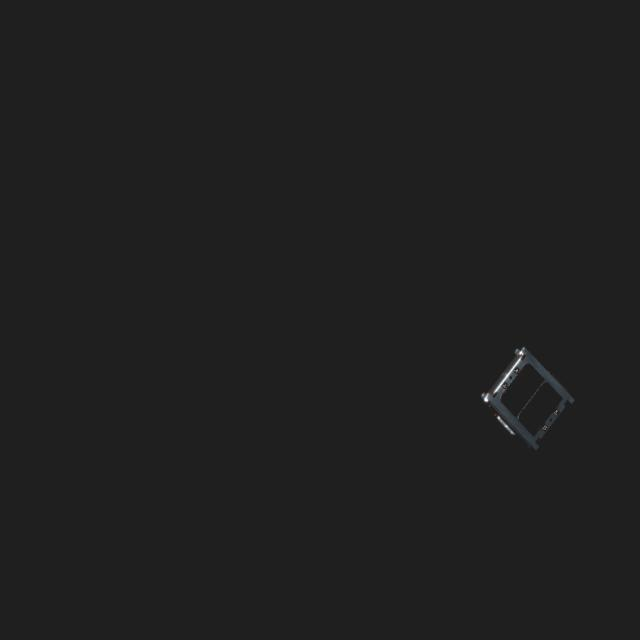satellite: (480, 347, 580, 447)
